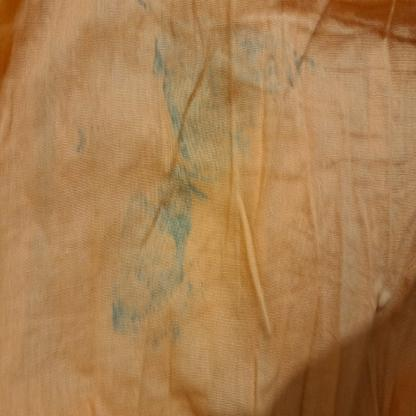spot: (110, 87, 264, 337), (150, 14, 327, 106), (74, 123, 96, 154), (184, 282, 206, 308), (171, 320, 183, 348)
